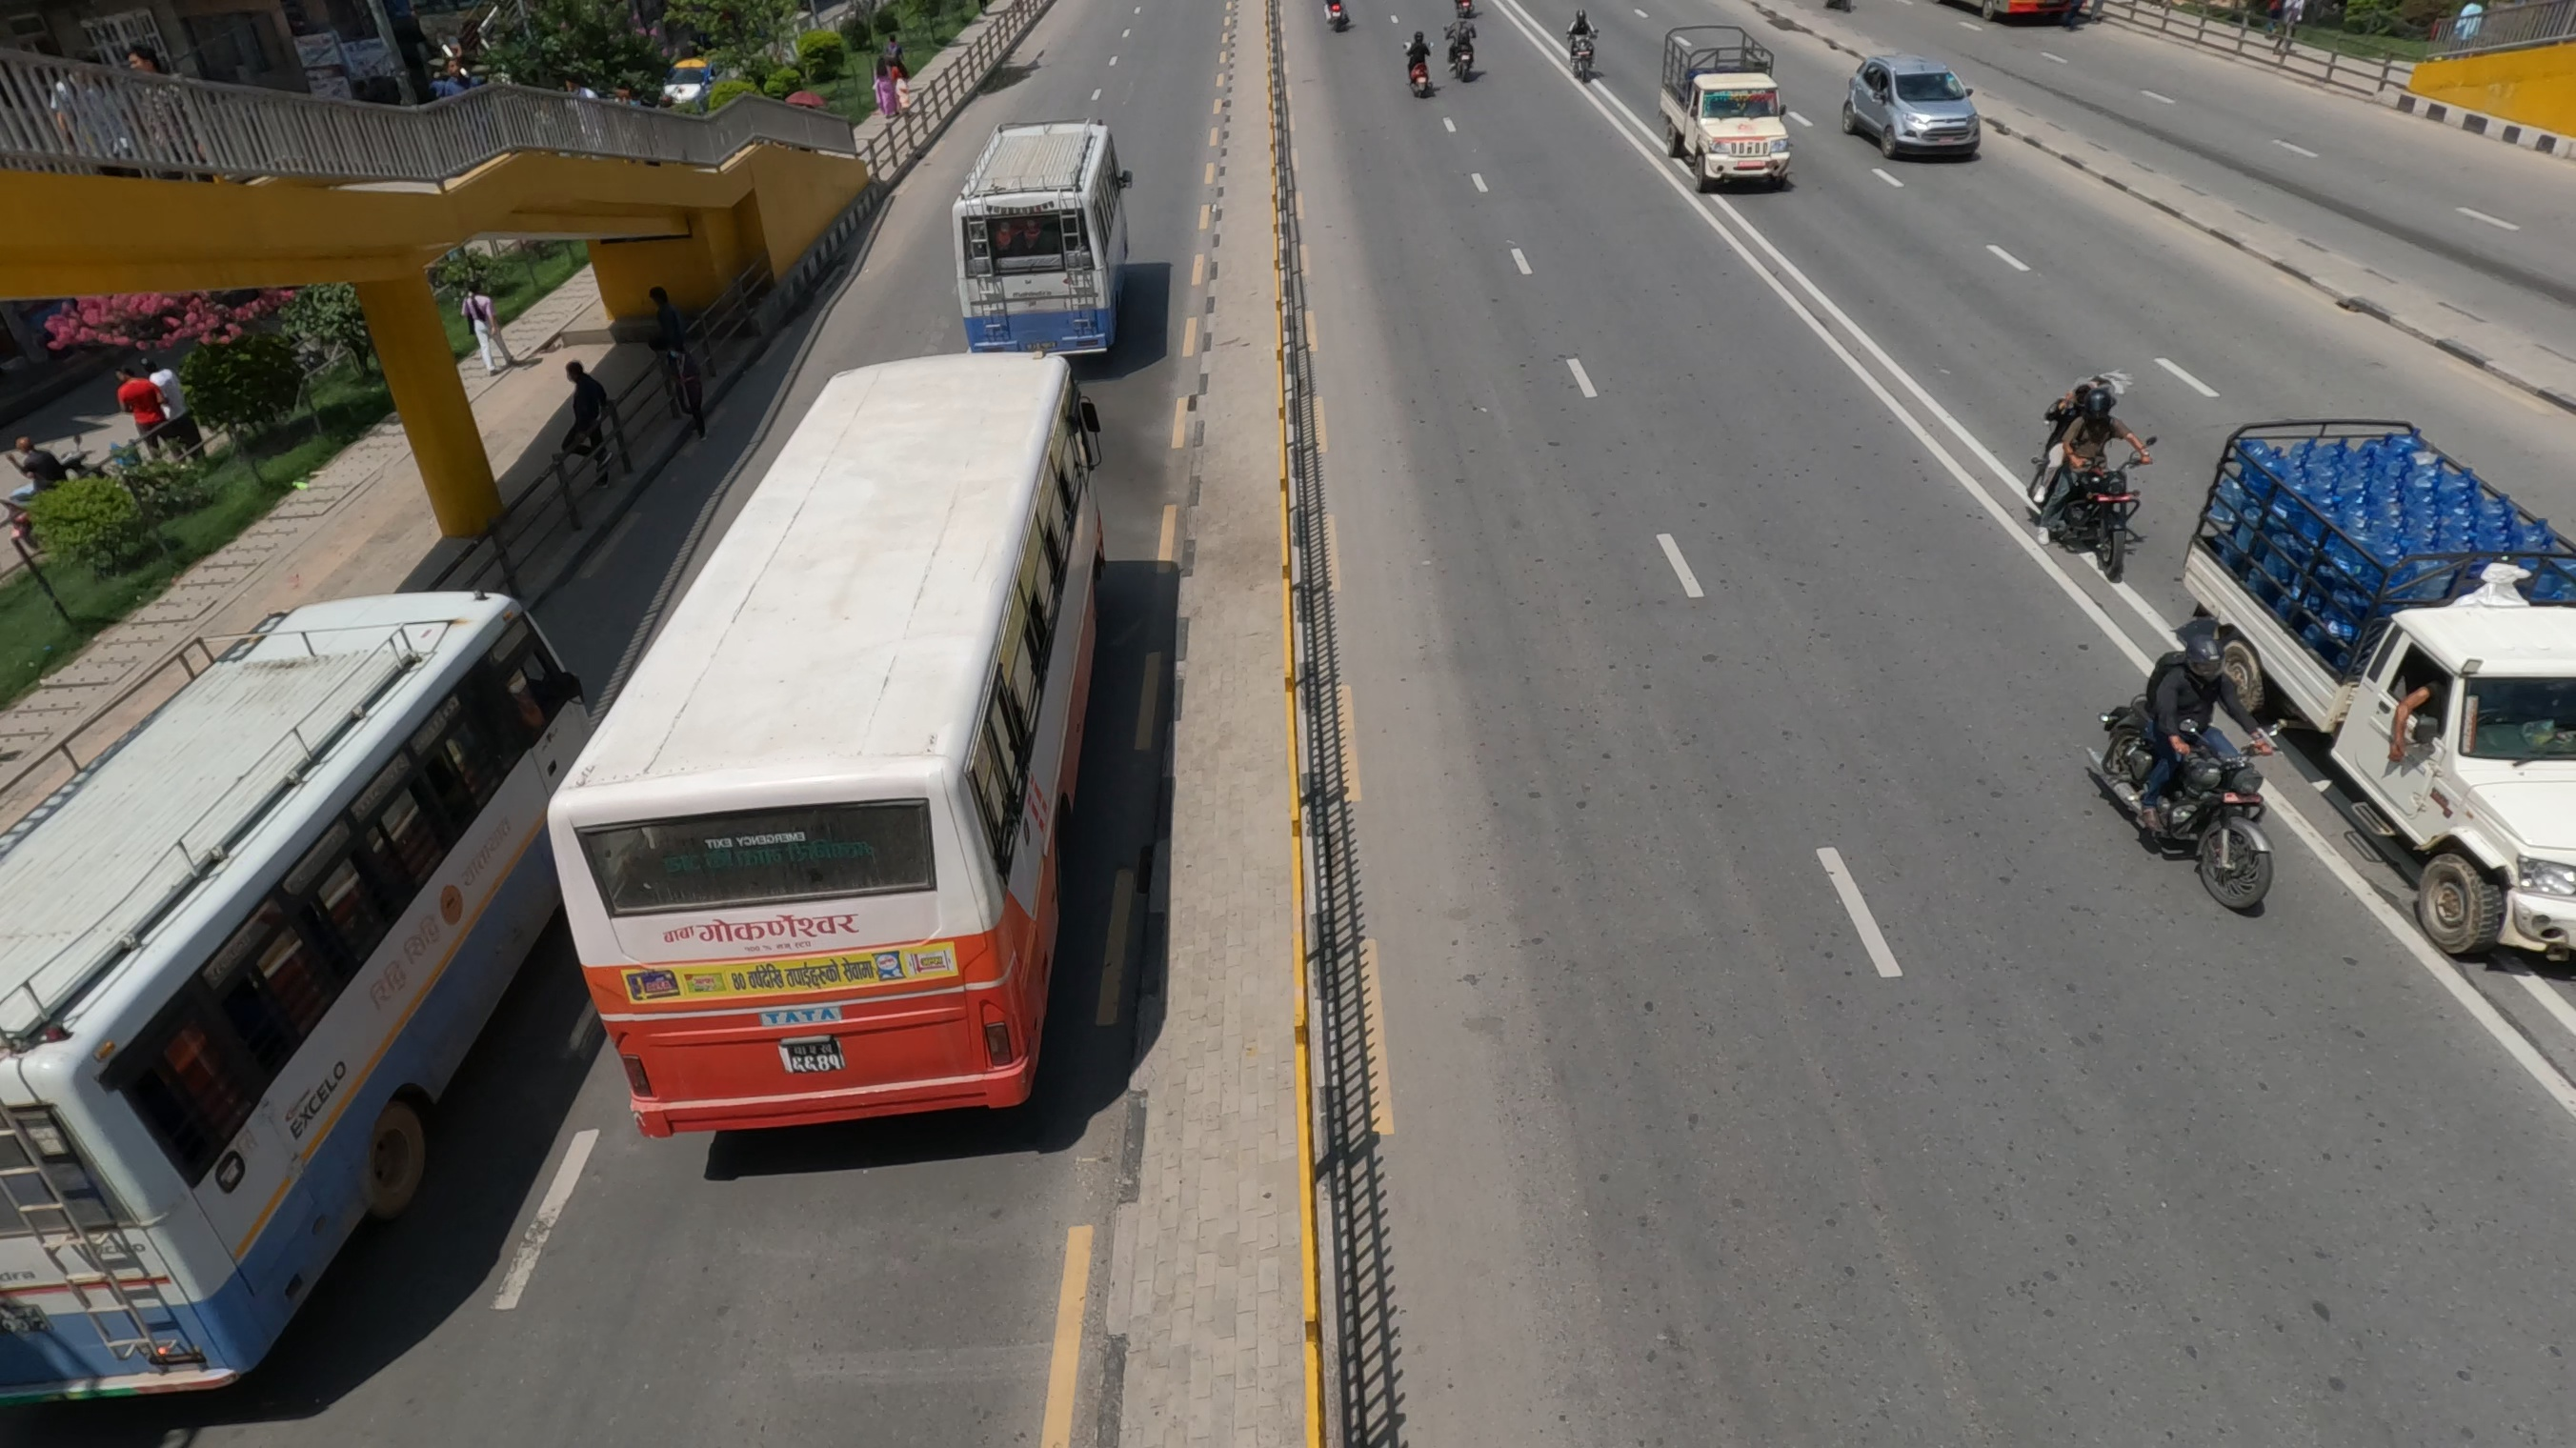normal: (594, 789, 1044, 1096), (5, 1066, 235, 1381)
smoky: (966, 195, 1175, 349)
